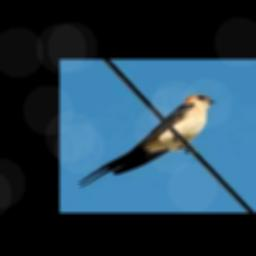Swallow: (78, 94, 216, 188)
